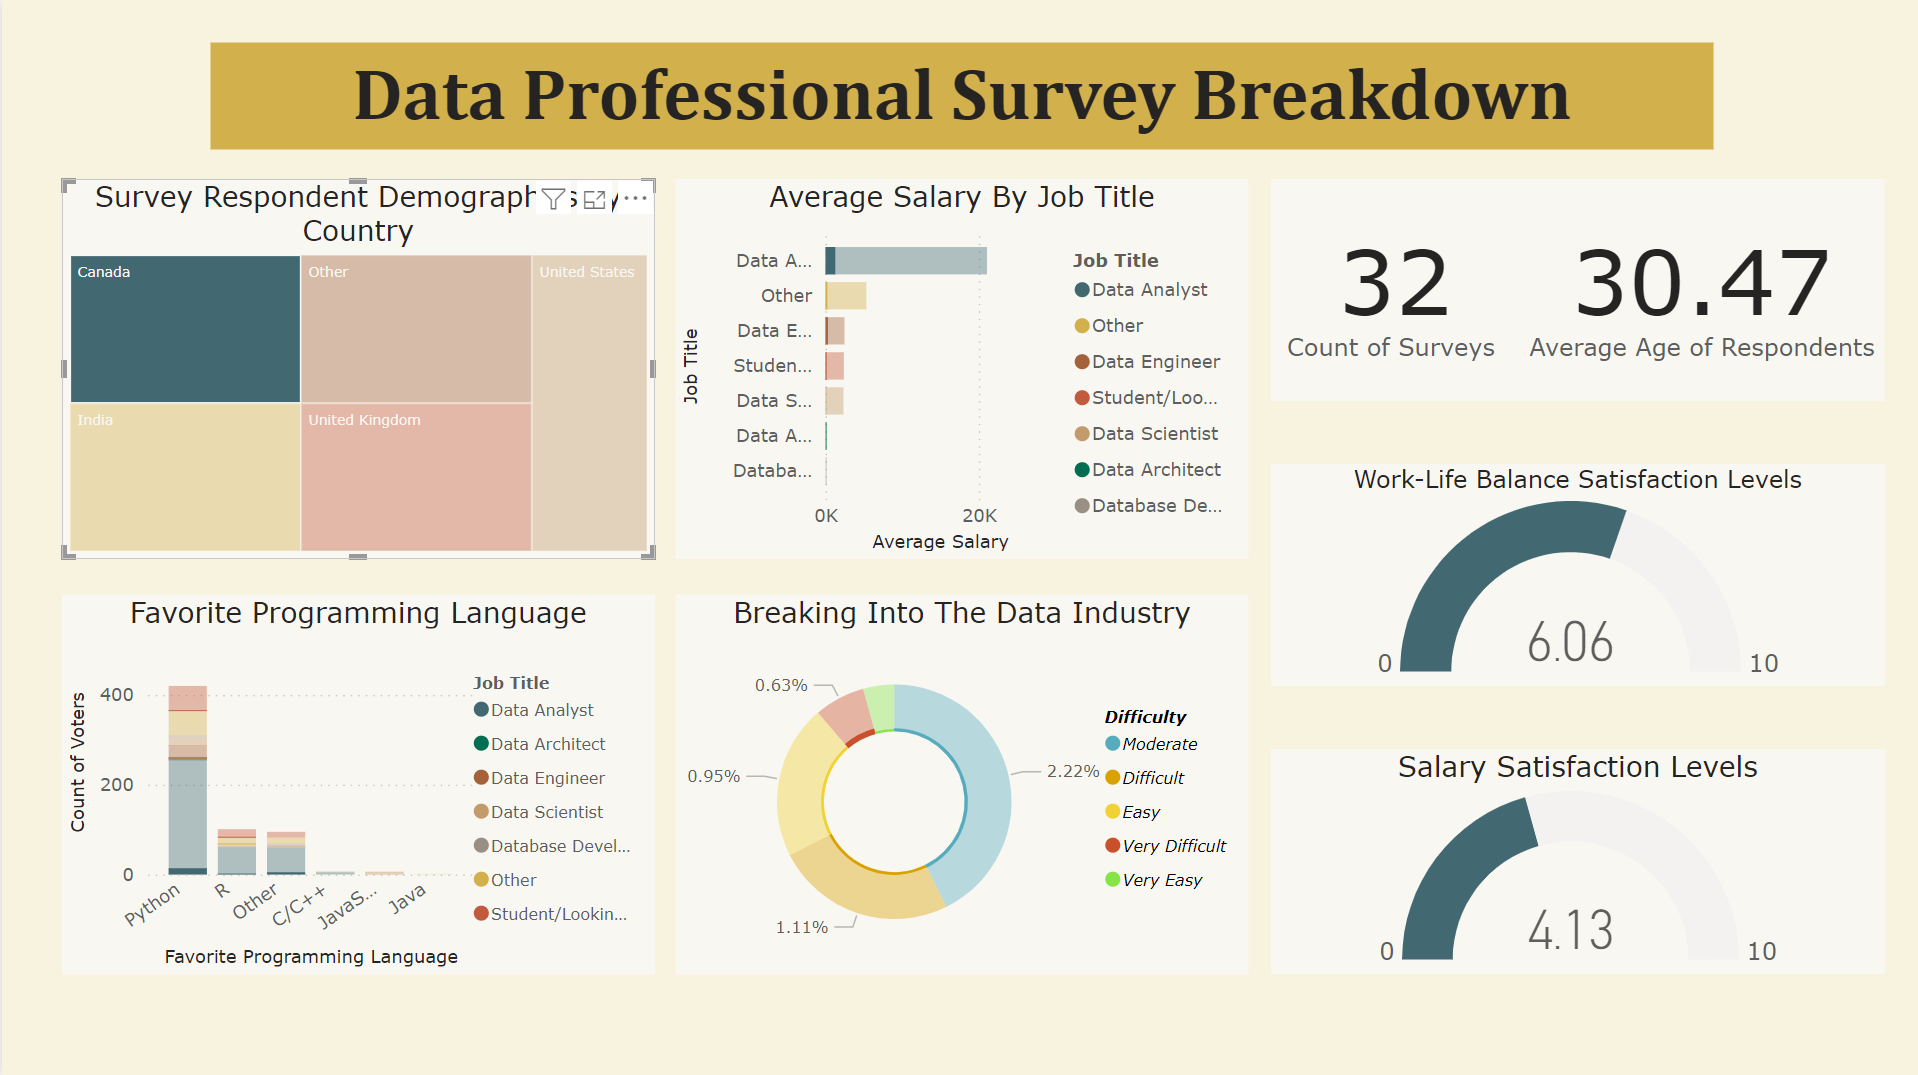

Layout of this report page (visuals, bound fields, positions):
{"tool":"powerbi","page":{"name":"Page 1","canvas":[1280,720],"ordinal":0},"visuals":[{"type":"textbox","box":[139,29,1002,71],"z":0},{"type":"card","fields":{"Values":["Count(Data Professional Survey.Unique ID)"]},"box":[846,120,165,148],"z":1000},{"type":"card","fields":{"Values":["Avg(Data Professional Survey.Q10 - Current Age)"]},"box":[1011,120,244,148],"z":2000},{"type":"barChart","title":"Average Salary By Job Title","fields":{"Category":["Data Professional Survey.Q1 - Which Title Best Fits your Current Role?.1"],"Y":["Avg(Data Professional Survey.Average Salary)"],"Series":["Data Professional Survey.Q1 - Which Title Best Fits your Current Role?.1"]},"box":[449,120,382,253],"z":3000},{"type":"columnChart","title":"Favorite Programming Language ","fields":{"Category":["Data Professional Survey.Q5 - Favorite Programming Language.1"],"Y":["CountNonNull(Data Professional Survey.Unique ID)"],"Series":["Data Professional Survey.Q1 - Which Title Best Fits your Current Role?.1"]},"box":[40,397.3,395.5,252.7],"z":4000},{"type":"treemap","title":"Survey Respondent Demographics by Country","fields":{"Group":["Data Professional Survey.Q11 - Which Country do you live in?.1"],"Values":["Count(Data Professional Survey.Q11 - Which Country do you live in?.1)"]},"box":[40,120,395,253],"z":5000},{"type":"gauge","title":"Salary Satisfaction Levels","fields":{"Y":["Avg(Data Professional Survey.Q6 - How Happy are you in your Current Position with the following? (Salary))"],"MinValue":["Min(Data Professional Survey.Q6 - How Happy are you in your Current Position with the following? (Salary))"],"MaxValue":["Max(Data Professional Survey.Q6 - How Happy are you in your Current Position with the following? (Salary))"]},"box":[846,500,409,150],"z":6000},{"type":"gauge","title":"Work-Life Balance Satisfaction Levels","fields":{"Y":["Avg(Data Professional Survey.Q6 - How Happy are you in your Current Position with the following? (Work/Life Balance))"],"MaxValue":["Max(Data Professional Survey.Q6 - How Happy are you in your Current Position with the following? (Work/Life Balance))1"],"MinValue":["Min(Data Professional Survey.Q6 - How Happy are you in your Current Position with the following? (Work/Life Balance))"]},"box":[846,310,409,148],"z":7000},{"type":"donutChart","title":"Breaking Into The Data Industry","fields":{"Y":["CountNonNull(Data Professional Survey.Q7 - How difficult was it for you to break into Data? - Copy)"],"Category":["Data Professional Survey.Q7 - How difficult was it for you to break into Data? - Copy"]},"box":[449.1,397.3,381.8,252.7],"z":8000}]}

Visuals, with their boxes in screenshot pixels (x1, y1, x2, y2), scaled from the page's 1280x720 canvas onto the 1918x1075 screenshot:
textbox: locate(208, 43, 1710, 149)
card - Count(Data Professional Survey.Unique ID): locate(1268, 179, 1515, 400)
card - Avg(Data Professional Survey.Q10 - Current Age): locate(1515, 179, 1881, 400)
"Average Salary By Job Title" barChart: locate(673, 179, 1245, 557)
"Favorite Programming Language " columnChart: locate(60, 593, 653, 970)
"Survey Respondent Demographics by Country" treemap: locate(60, 179, 652, 557)
"Salary Satisfaction Levels" gauge: locate(1268, 747, 1881, 970)
"Work-Life Balance Satisfaction Levels" gauge: locate(1268, 463, 1881, 684)
"Breaking Into The Data Industry" donutChart: locate(673, 593, 1245, 970)
